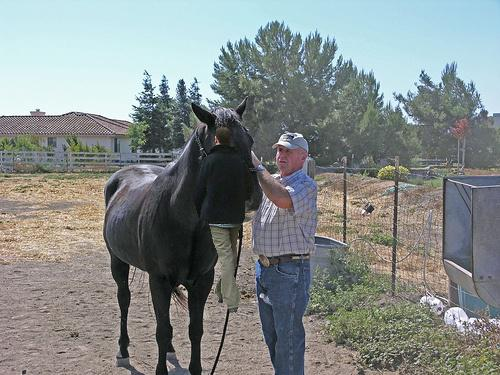tampered: (194, 127, 254, 313)
